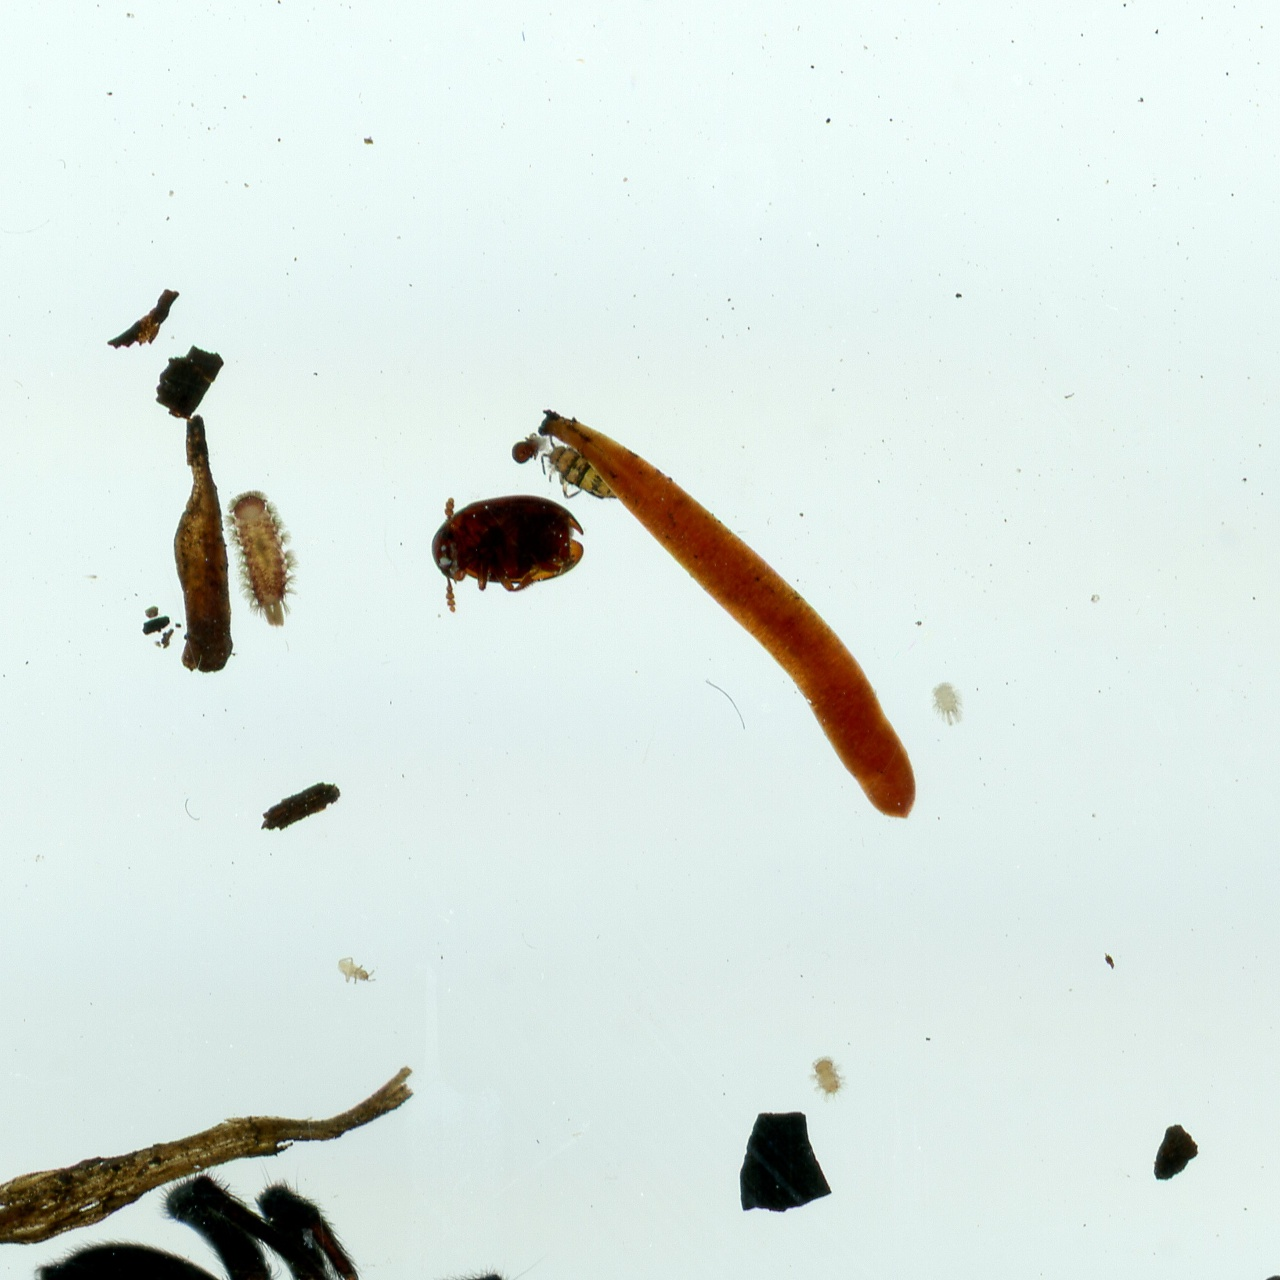arthropod: (18, 1152, 620, 1280), (428, 493, 586, 614), (220, 485, 304, 629), (539, 434, 618, 501), (802, 1051, 852, 1104), (928, 680, 968, 728), (336, 954, 377, 986), (510, 430, 542, 467)
